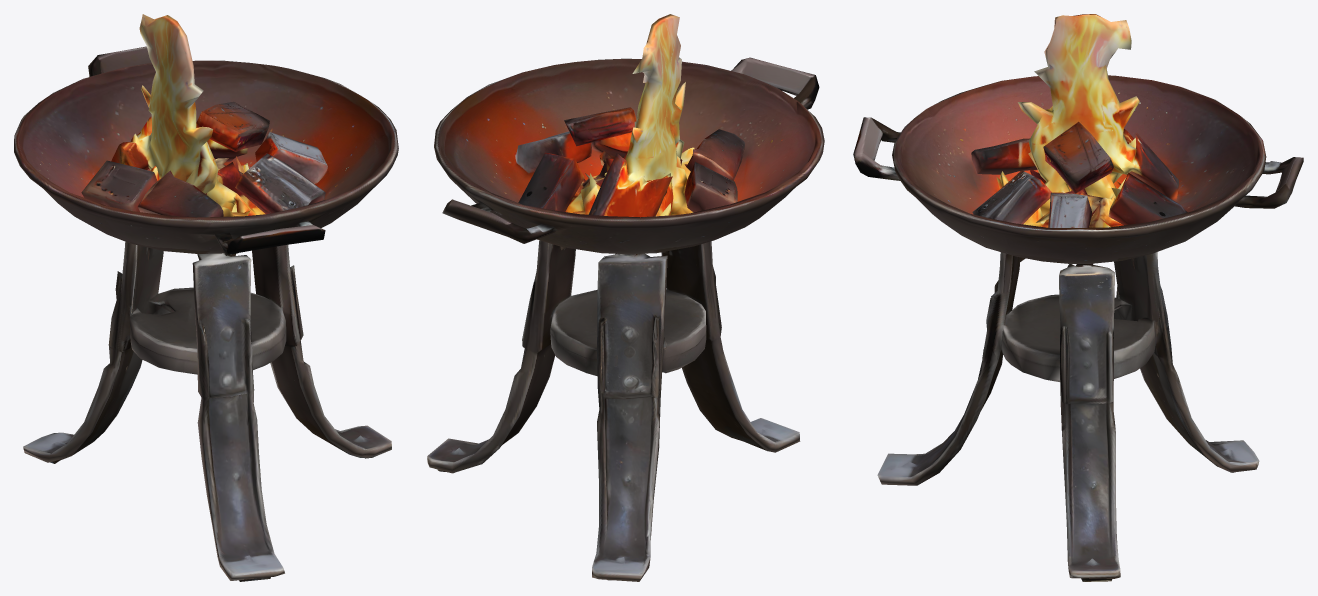
The model's file is fire+brazier+3d+model.obj.
3 views of the same model, side by side, from view 1: azimuth 30°, elevation 25°; view 2: azimuth 150°, elevation 25°; view 3: azimuth 270°, elevation 25° (orthographic). The views are drawn at different scales.
Visible parts, largest first — view 1: tripo_node_66b84e35-47f7-478a-823d-7c8cb495dd87; view 2: tripo_node_66b84e35-47f7-478a-823d-7c8cb495dd87; view 3: tripo_node_66b84e35-47f7-478a-823d-7c8cb495dd87.
Boxes of the visible parts, x1,y1,x2,y2 form: tripo_node_66b84e35-47f7-478a-823d-7c8cb495dd87: (14, 14, 398, 581); tripo_node_66b84e35-47f7-478a-823d-7c8cb495dd87: (427, 14, 824, 581); tripo_node_66b84e35-47f7-478a-823d-7c8cb495dd87: (853, 14, 1303, 581).
Size of the model in its own units: 0.7562 by 1 by 0.8682.
